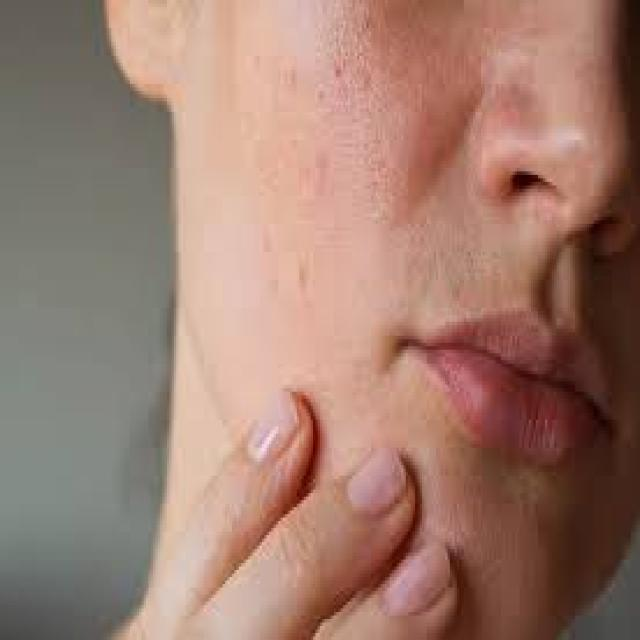dry: (368, 115, 416, 335), (474, 490, 522, 582), (257, 68, 319, 135), (390, 78, 440, 152), (449, 212, 496, 286), (452, 53, 488, 127), (334, 42, 376, 105), (380, 20, 423, 77)
